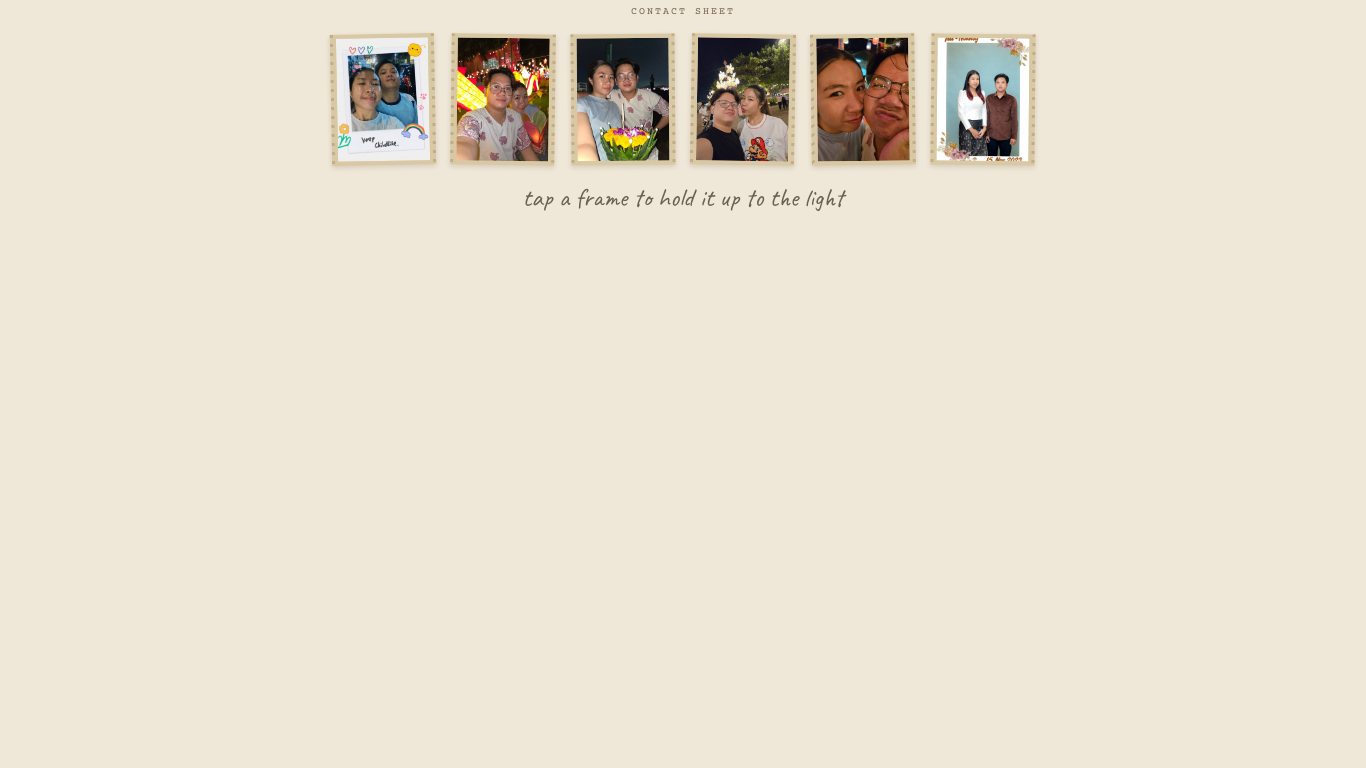
Scenario: PlateLightbox › pages from its own controls too
Click the button named "Hold up".
click(383, 99)  # box [330, 33, 436, 165]
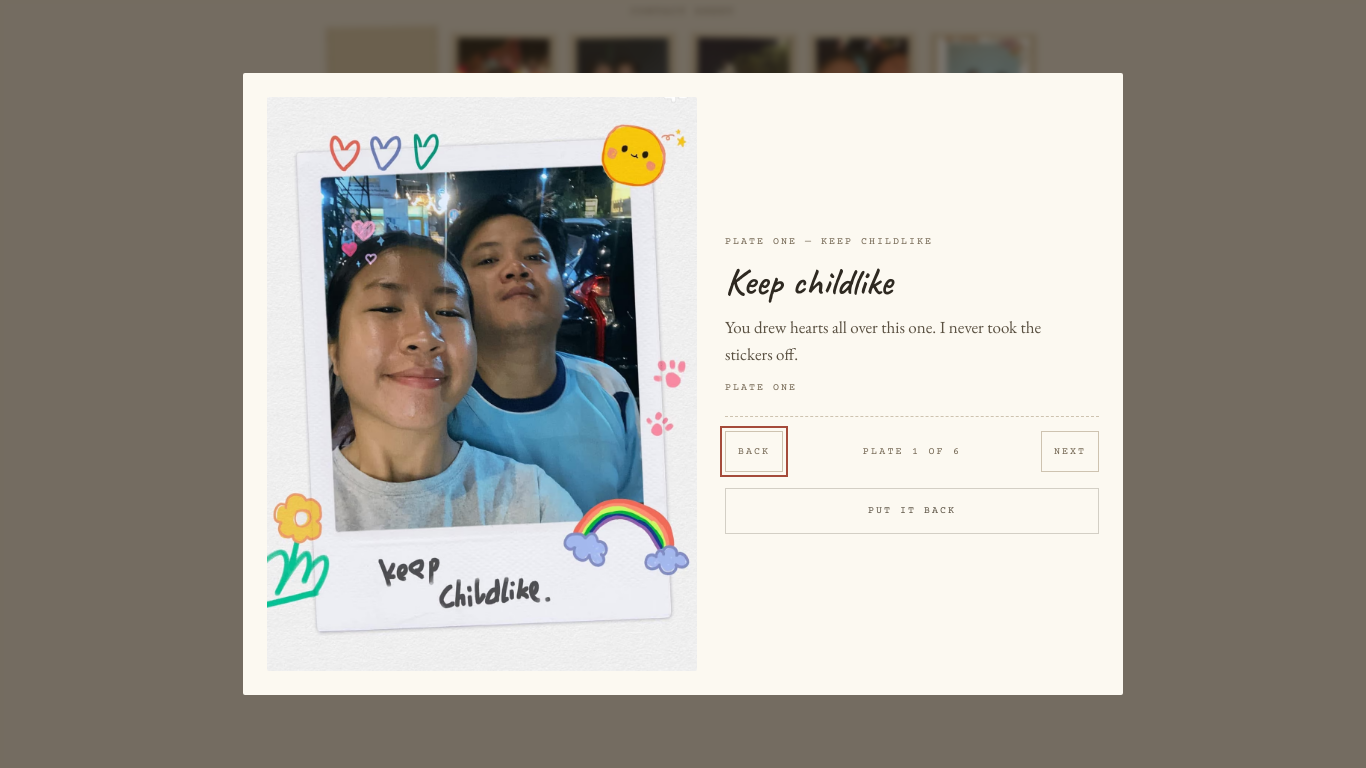
Click the button with aria-label "Next plate".
click(1070, 451)  # box [1041, 431, 1099, 472]
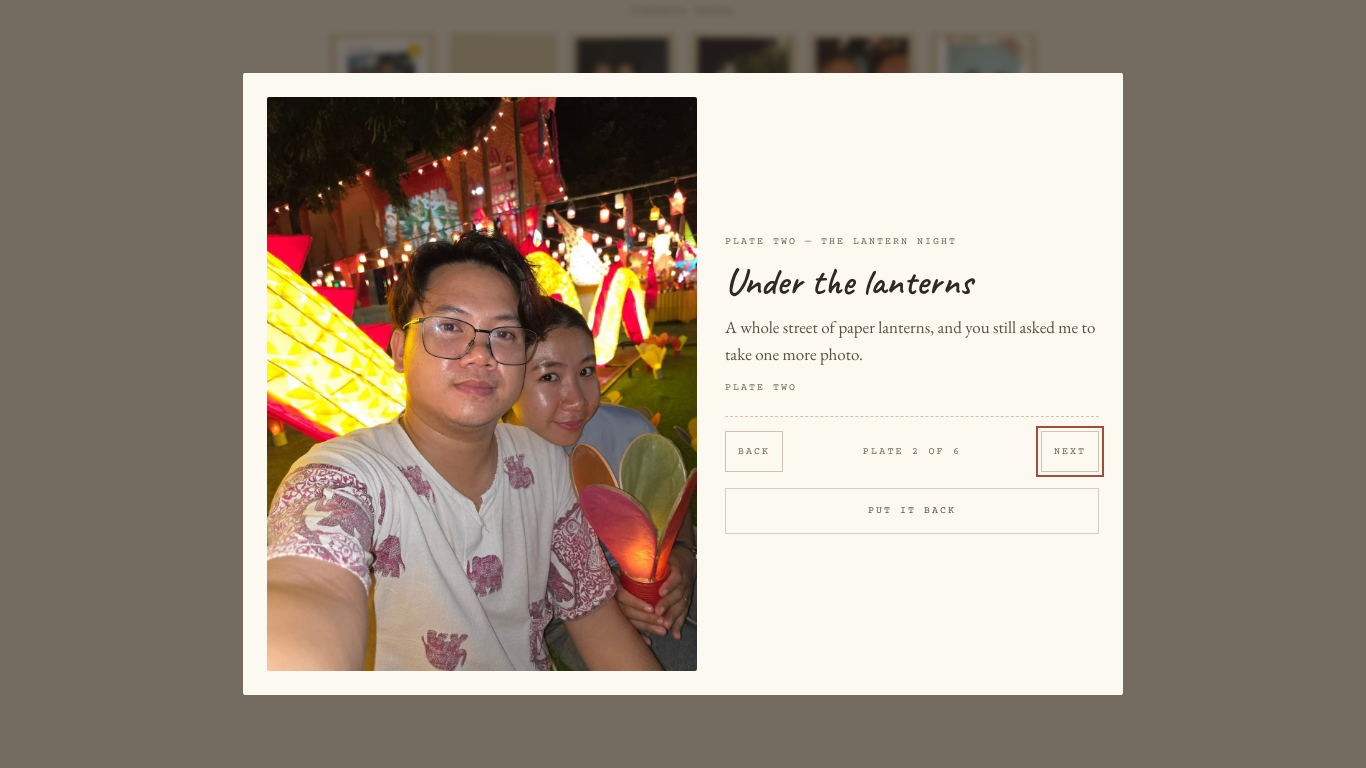
Result: the dialog "Under the lanterns" is shown at [243, 73, 1123, 695]
